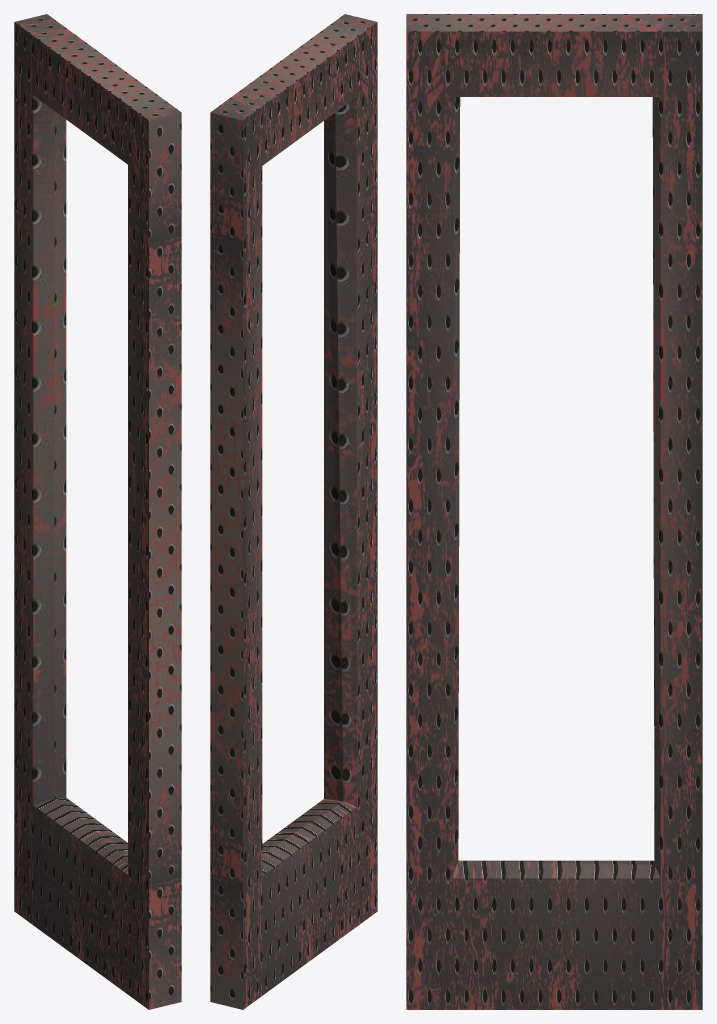
File: guanggaopai_denggkuang02.FBX
3 renders of one model, left to right at view 1: azimuth 30°, elevation 25°; view 2: azimuth 150°, elevation 25°; view 3: azimuth 270°, elevation 25°, orthographic. The views are drawn at different scales.
Parts seen in each view (by area): view 1: Box009; view 2: Box009; view 3: Box009.
Boxes of the visible parts, x1,y1,x2,y2 form: Box009: [14, 14, 181, 1009]; Box009: [210, 14, 377, 1009]; Box009: [406, 14, 702, 1009].
Size of the model in its own units: 1.65 by 42.87 by 11.76.
